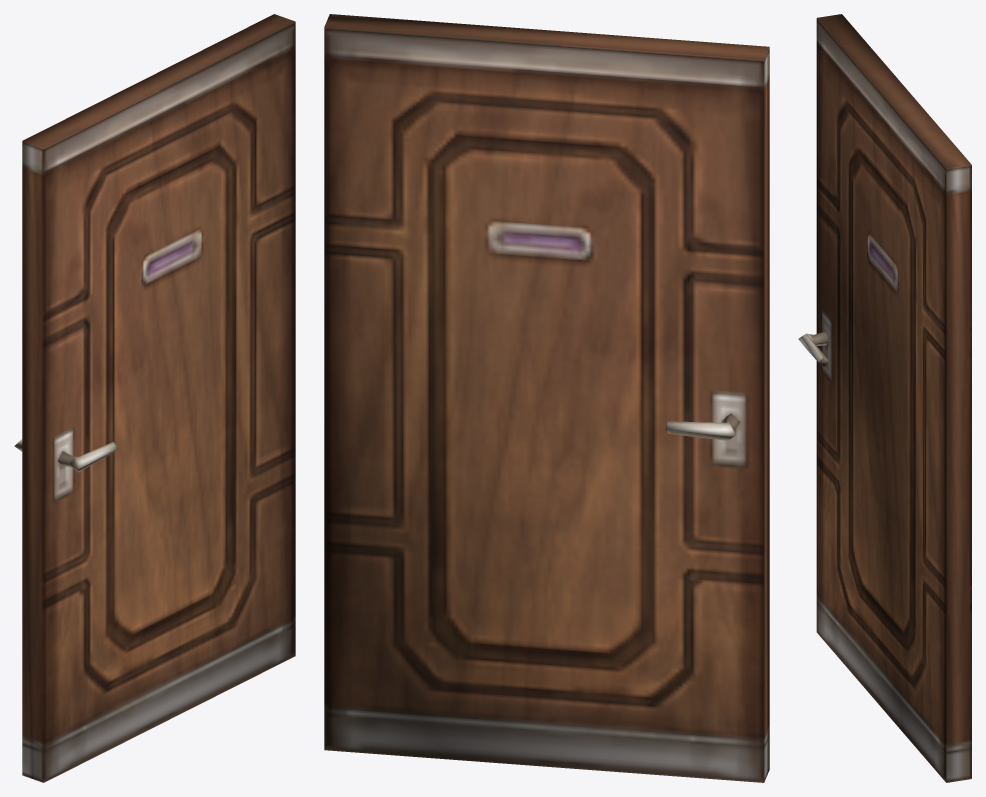
File: a_SCdoor01.glb
3 renders of one model, left to right at view 1: azimuth 30°, elevation 25°; view 2: azimuth 150°, elevation 25°; view 3: azimuth 270°, elevation 25°, orthographic. The views are drawn at different scales.
Parts seen in each view (by area): view 1: a_SCdoor01; view 2: a_SCdoor01; view 3: a_SCdoor01.
Part boxes in pixels (x1,y1,x2,y2): a_SCdoor01: (14,14,295,782); a_SCdoor01: (324,14,769,782); a_SCdoor01: (798,14,971,782).
Bounding box in the file's own units: 1.35 × 2.5 × 0.6406.
1 material, 1 textured.
